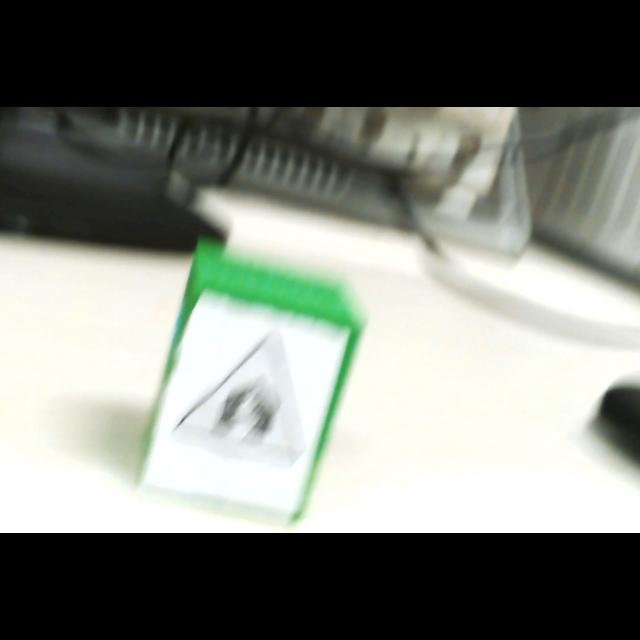Earthquake: (175, 330, 306, 461)
